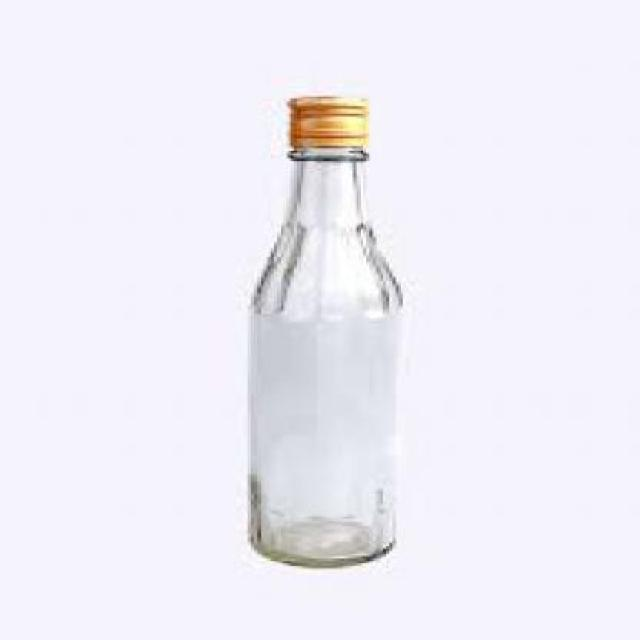kaca: (241, 143, 397, 566)
